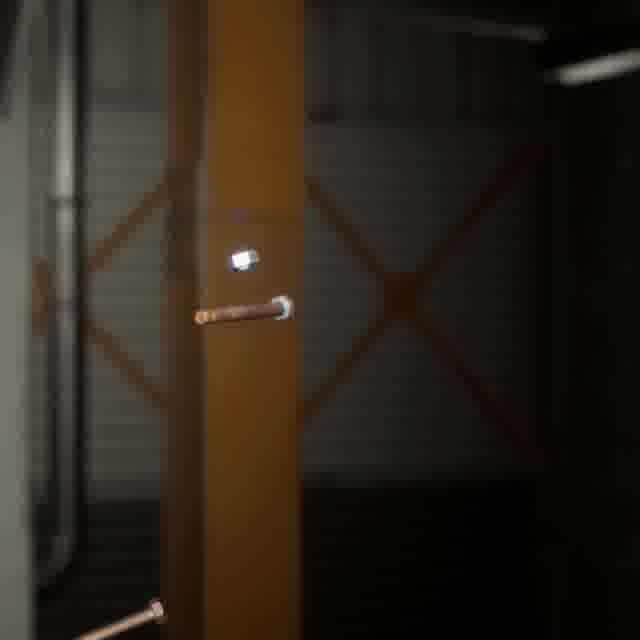bolt: (67, 592, 171, 640), (190, 290, 298, 329)
nut: (222, 246, 263, 275)
